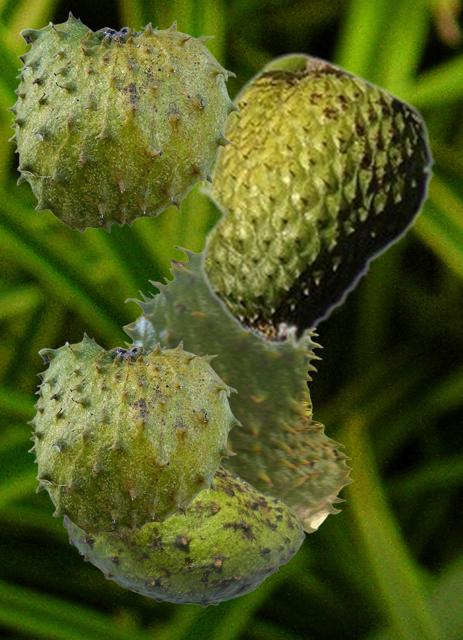guyabano: (196, 51, 434, 349), (122, 245, 353, 534), (6, 10, 240, 232), (26, 331, 241, 536), (62, 464, 304, 606)
